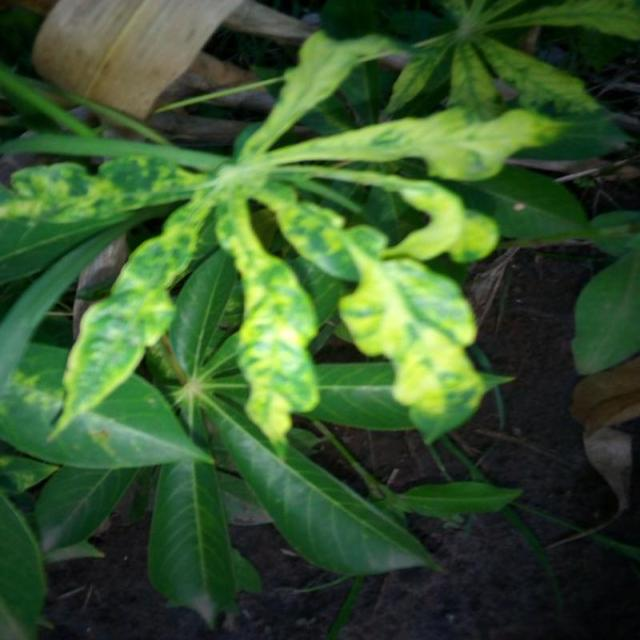cassava leaf: (1, 4, 636, 630)
